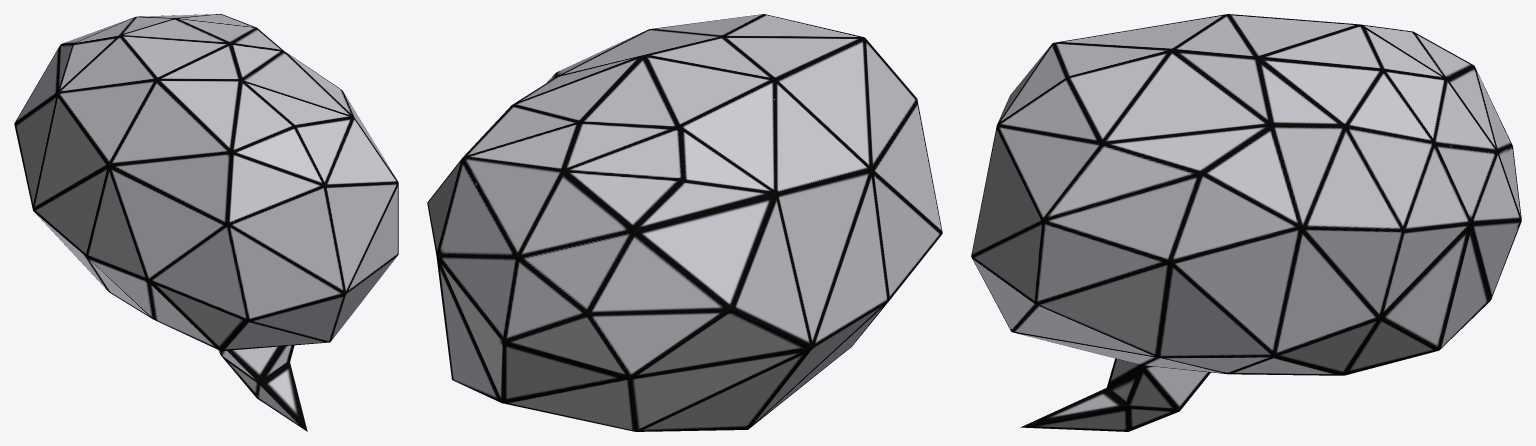
3 views of the same model, side by side, from view 1: azimuth 30°, elevation 25°; view 2: azimuth 150°, elevation 25°; view 3: azimuth 270°, elevation 25° (orthographic). The views are drawn at different scales.
Parts seen in each view (by area): view 1: Cube; view 2: Cube; view 3: Cube.
Part boxes in pixels (left/top/right/bottom): Cube: left=14, top=14, right=398, bottom=431; Cube: left=427, top=14, right=942, bottom=431; Cube: left=971, top=14, right=1521, bottom=431.
Bounding box in the file's own units: 2.27 × 2.51 × 3.28.
1 material, 1 textured.
